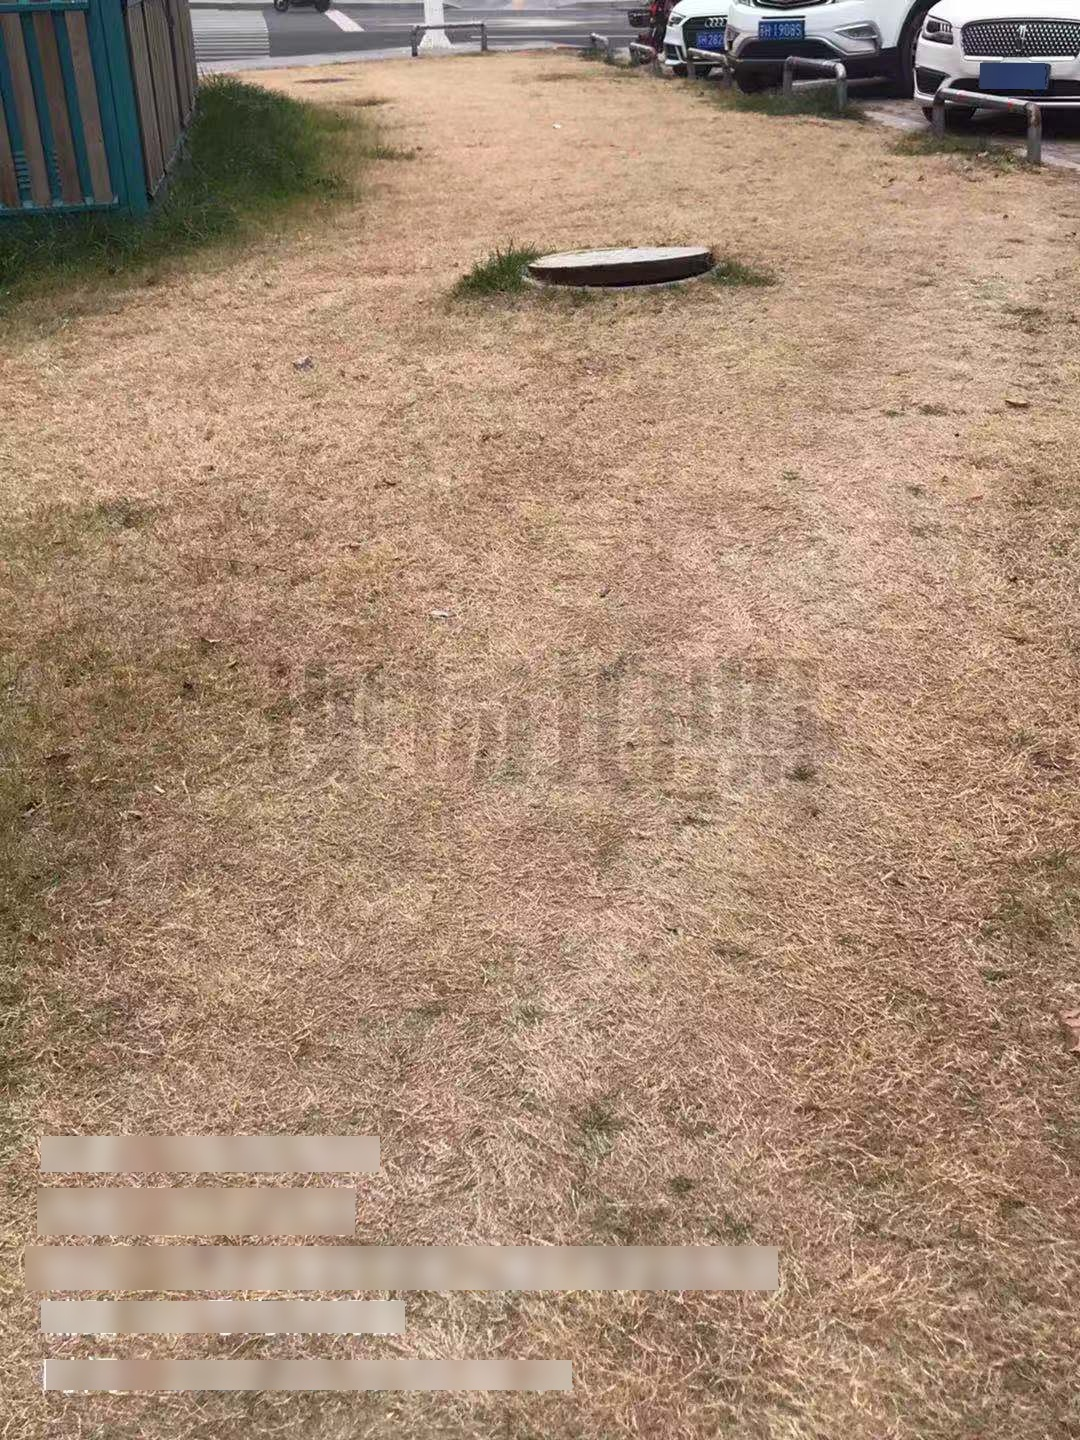well: (524, 246, 725, 293)
